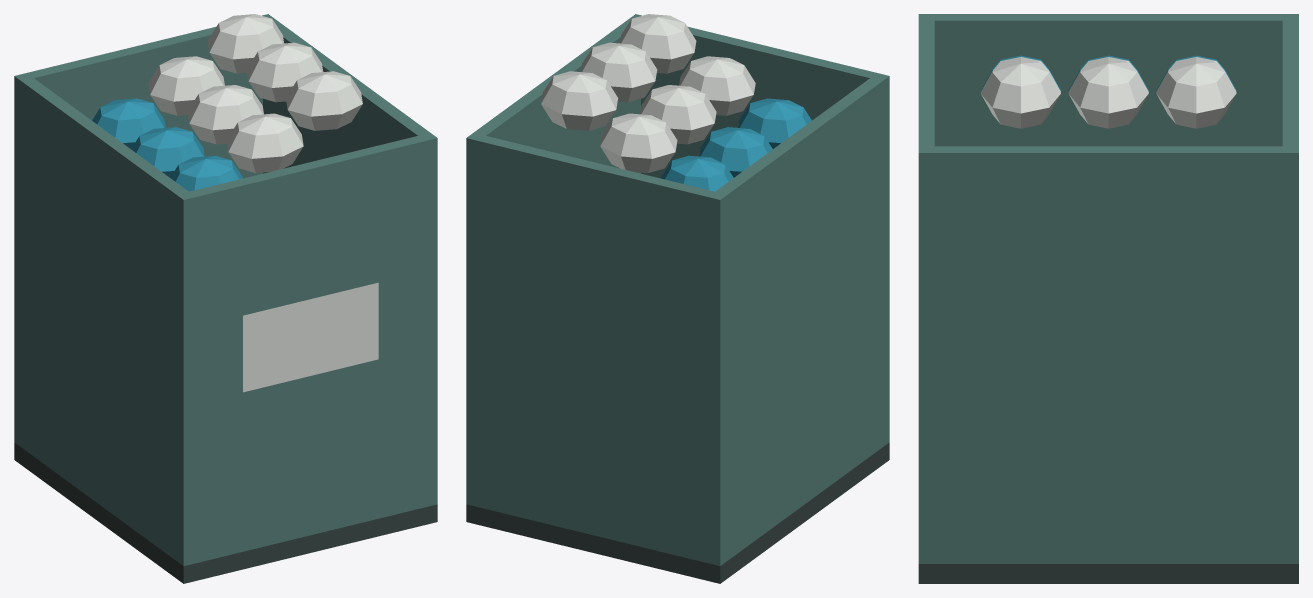
File: CLN_BIN_OVERFLOW_01.fbx
3 views of the same model, side by side, from view 1: azimuth 30°, elevation 25°; view 2: azimuth 150°, elevation 25°; view 3: azimuth 270°, elevation 25° (orthographic). The views are drawn at different scales.
Visible parts, largest first — view 1: CLN_BIN_OVERFLOW_01; view 2: CLN_BIN_OVERFLOW_01; view 3: CLN_BIN_OVERFLOW_01.
Boxes of the visible parts, left/top/right/bottom form: CLN_BIN_OVERFLOW_01: left=14, top=14, right=437, bottom=583; CLN_BIN_OVERFLOW_01: left=466, top=14, right=889, bottom=583; CLN_BIN_OVERFLOW_01: left=918, top=14, right=1298, bottom=583.
Bounding box in the file's own units: 45 × 72.9 × 52.05.
